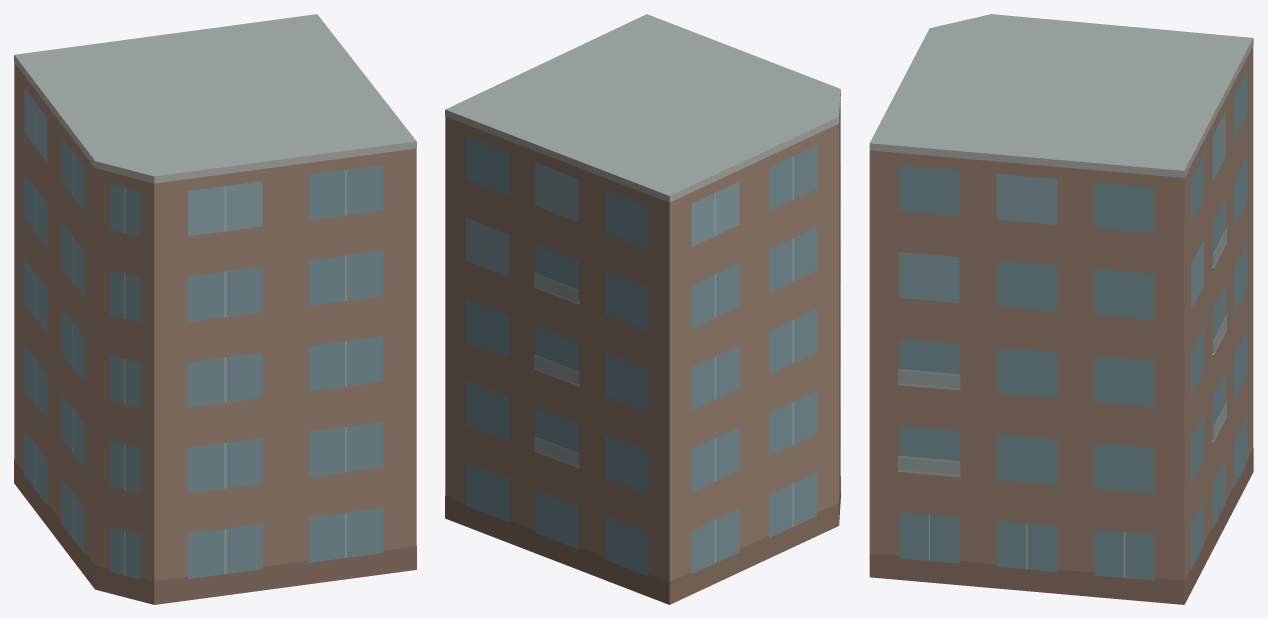
File: survey-upis-32874930.glb
The picture shows the model from 3 angles, left to right: view 1: azimuth 30°, elevation 25°; view 2: azimuth 150°, elevation 25°; view 3: azimuth 270°, elevation 25°; orthographic projection. The views are drawn at different scales.
Visible parts, largest first — view 1: survey-upis-32874930.tmp; view 2: survey-upis-32874930.tmp; view 3: survey-upis-32874930.tmp.
Boxes of the visible parts, bbox=[...] form: survey-upis-32874930.tmp: bbox=[14, 14, 416, 604]; survey-upis-32874930.tmp: bbox=[445, 14, 840, 604]; survey-upis-32874930.tmp: bbox=[869, 14, 1253, 604].
Size of the model in its own units: 11.56 by 14.9 by 11.96.
